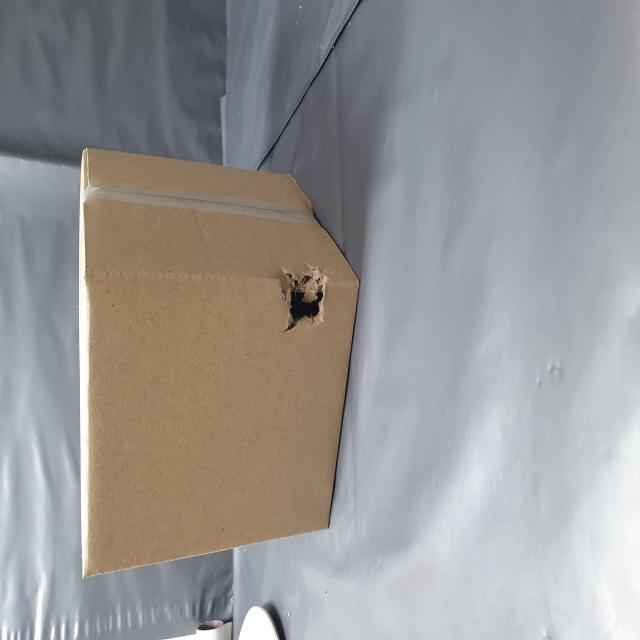damaged: (175, 494, 214, 587)
